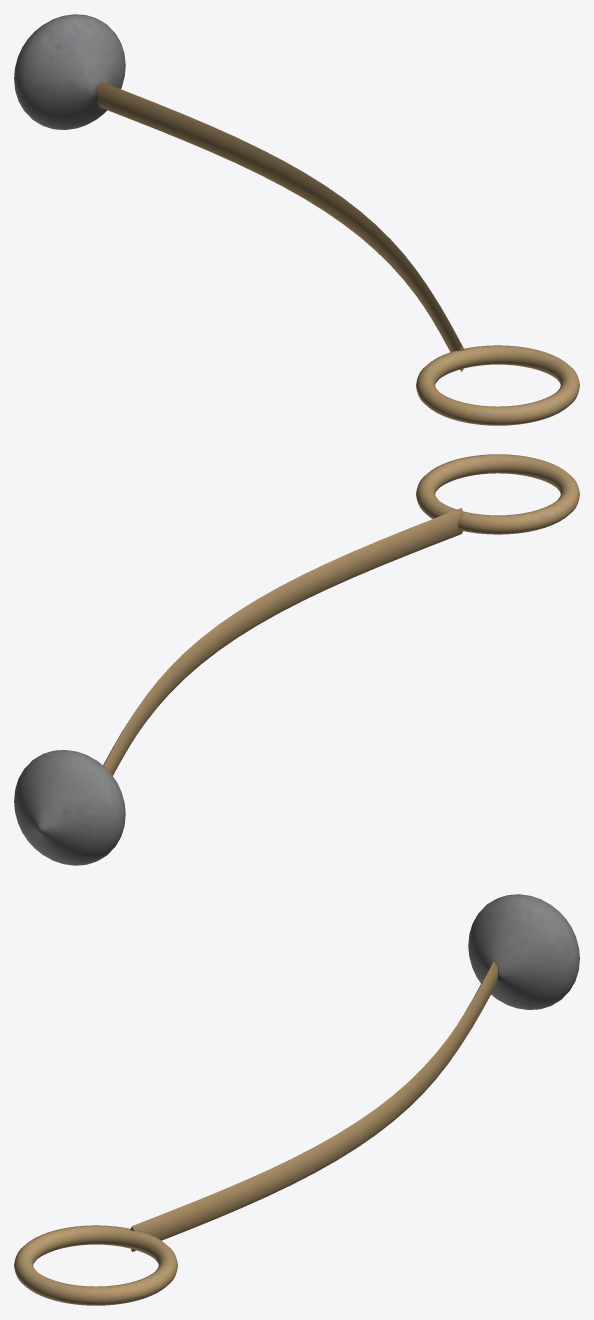
Rendered from strap_weight.glb.
3 renders of one model, top to bottom at view 1: azimuth 30°, elevation 25°; view 2: azimuth 150°, elevation 25°; view 3: azimuth 330°, elevation 25°, orthographic.
Visible parts, largest first — view 1: strap_weight; view 2: strap_weight; view 3: strap_weight.
Boxes of the visible parts, x1,y1,x2,y2 form: strap_weight: [14, 14, 579, 425]; strap_weight: [14, 454, 579, 865]; strap_weight: [14, 894, 579, 1305].
Size of the model in its own units: 0.068 by 0.0501 by 0.4139.
1 material, 1 textured.
